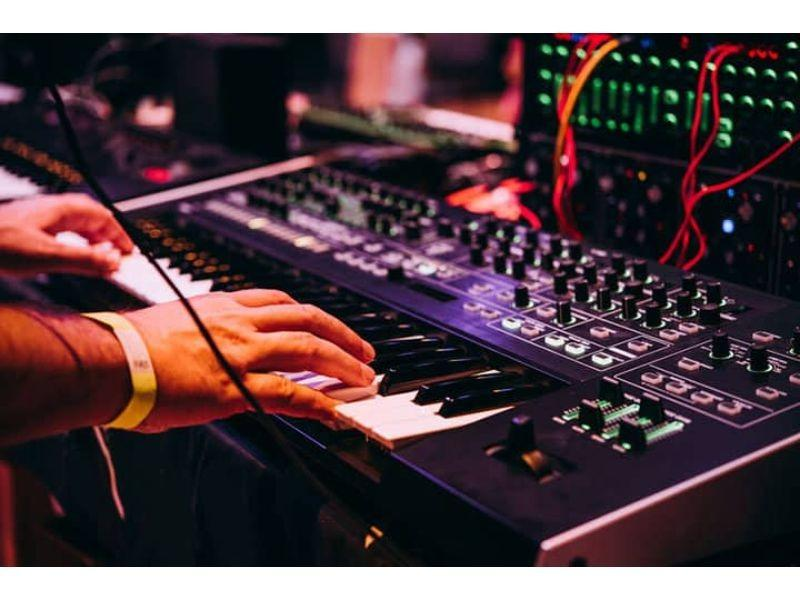synthesizer: (152, 158, 772, 539)
